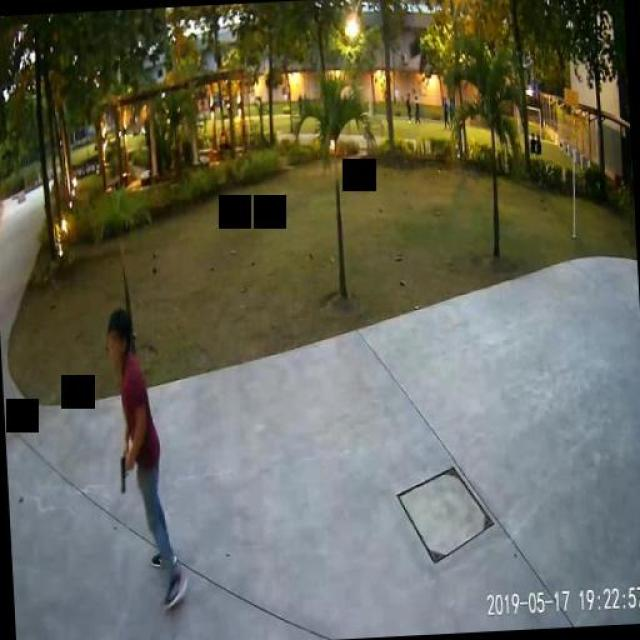gun: (118, 452, 134, 488)
